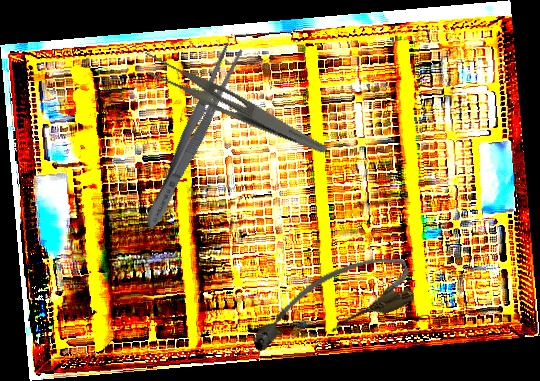Cannula: (240, 245, 420, 362)
Dressing Forceps: (133, 48, 337, 156), (138, 40, 247, 233)
